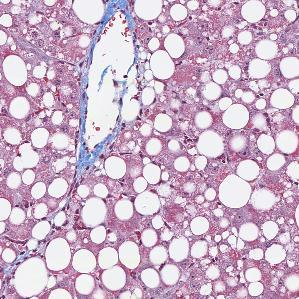fibrosis: (72, 147, 105, 176), (106, 0, 136, 23)
